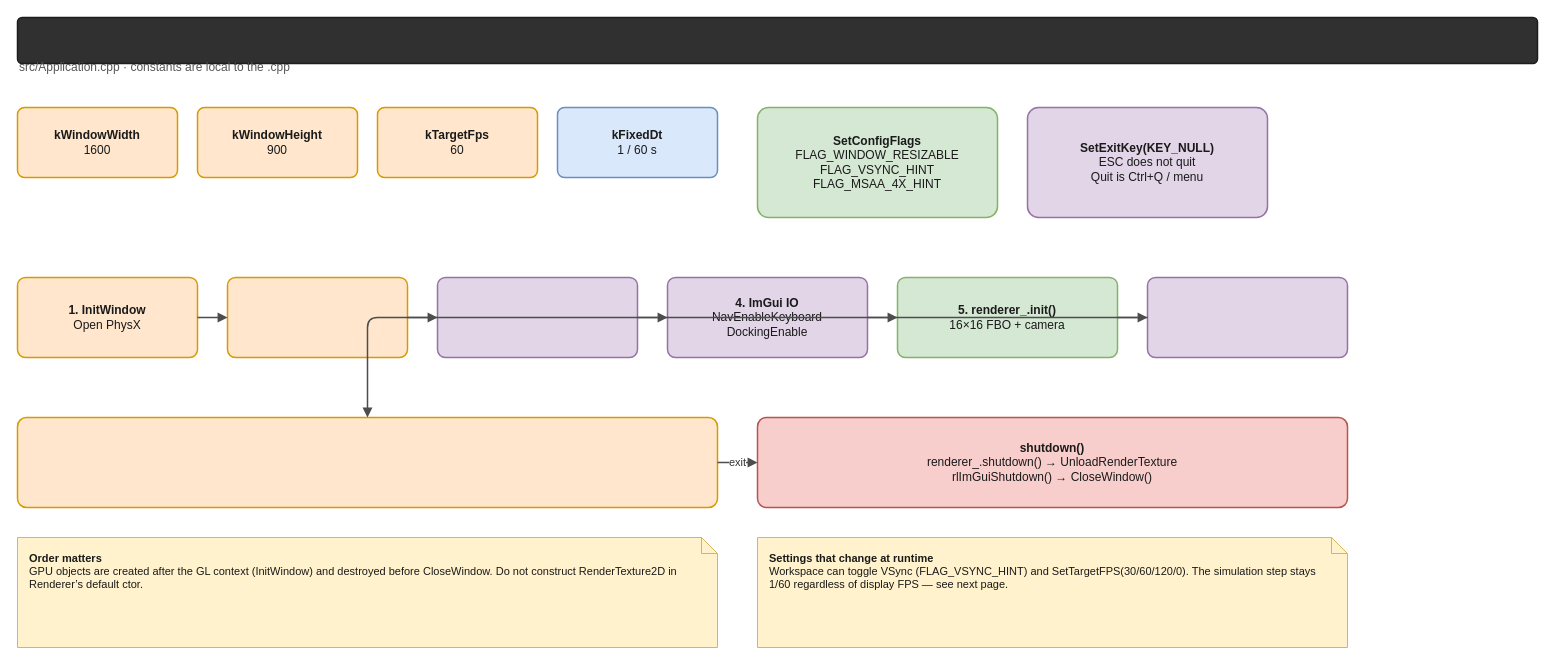
Some shapes in this 1556 by 666 pixel diagram are drawn without their labels. Here are the shapes that lost their labels. From the top down, the box of each, then its label:
(16, 16, 1538, 64): Application lifecycle
(226, 276, 408, 358): 2. SetTargetFPS(60)
(436, 276, 638, 358): 3. rlImGuiSetup(true)
(1146, 276, 1348, 358): 6. workspace_.init() apply_theme()
(16, 416, 718, 508): run loop while !WindowShouldClose() && !workspace_.quit_requested() frame()
